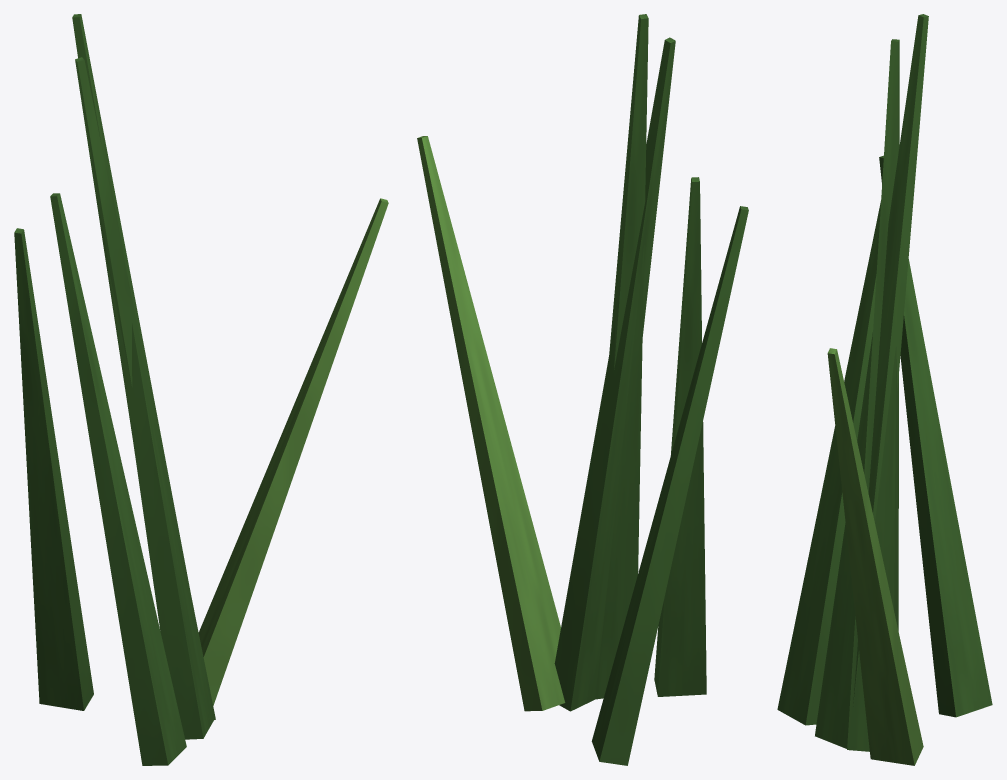
Rendered from grass_tuft_03.glb.
The picture shows the model from 3 angles, left to right: view 1: azimuth 30°, elevation 25°; view 2: azimuth 150°, elevation 25°; view 3: azimuth 270°, elevation 25°; orthographic projection. The views are drawn at different scales.
Visible parts, largest first — view 1: grass_tuft_03; view 2: grass_tuft_03; view 3: grass_tuft_03.
Part boxes in pixels (x1,y1,x2,y2): grass_tuft_03: (14, 14, 388, 765); grass_tuft_03: (417, 14, 748, 765); grass_tuft_03: (777, 14, 992, 765).
Bounding box in the file's own units: 0.4203 × 0.817 × 0.2298.
Materials: 1 (1 with a texture image).
